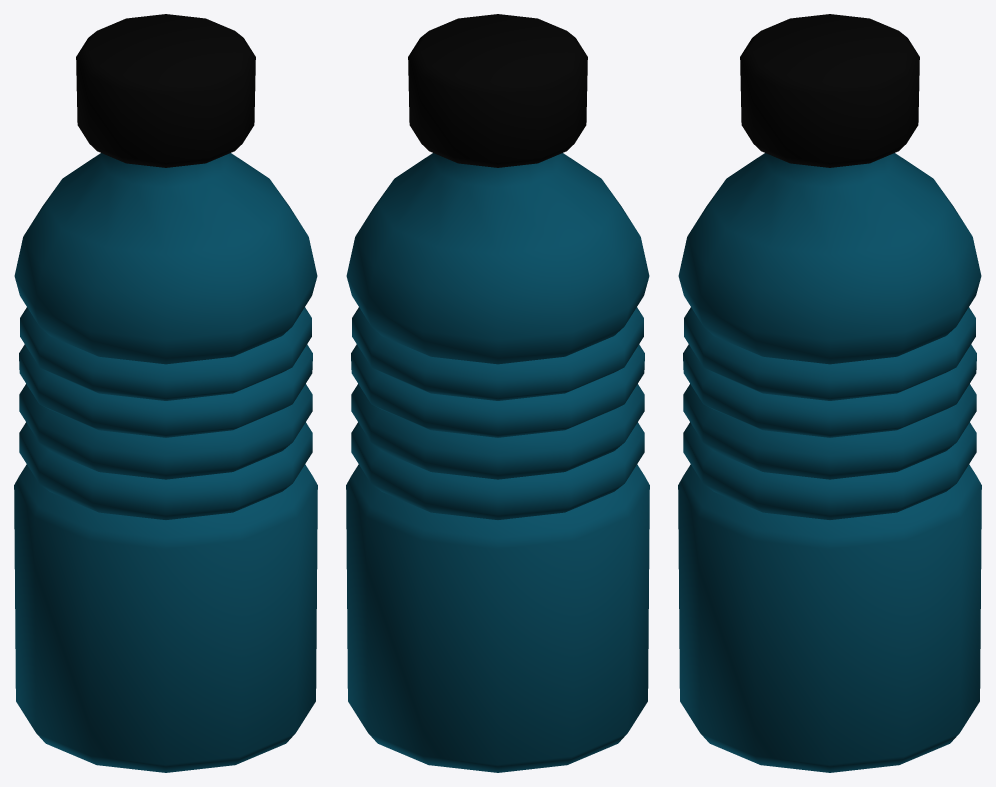
File: M_Water_Bottle_1.fbx
3 views of the same model, side by side, from view 1: azimuth 30°, elevation 25°; view 2: azimuth 150°, elevation 25°; view 3: azimuth 270°, elevation 25° (orthographic).
Visible parts, largest first — view 1: M_Water_Bottle_1; view 2: M_Water_Bottle_1; view 3: M_Water_Bottle_1.
Part boxes in pixels (x1=…): M_Water_Bottle_1: x1=14, y1=14, x2=317, y2=772; M_Water_Bottle_1: x1=346, y1=14, x2=649, y2=772; M_Water_Bottle_1: x1=678, y1=14, x2=981, y2=772.
Bounding box in the file's own units: 0.0871 × 0.2114 × 0.0871.
